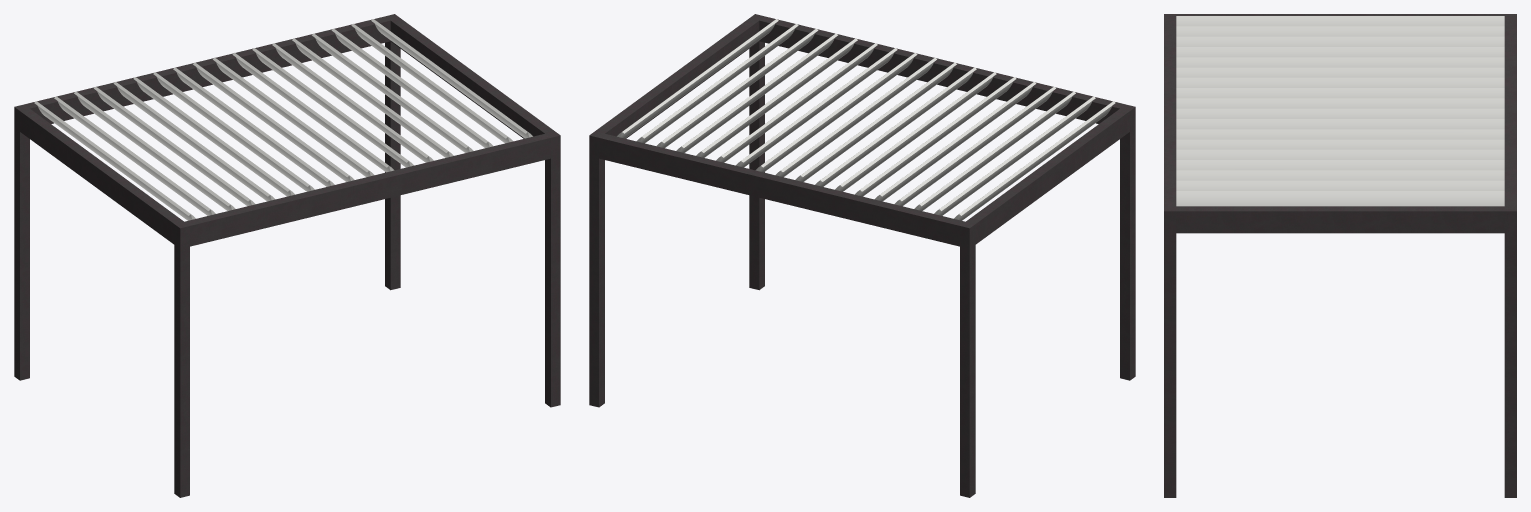
Rendered from psr_dokuritu-2k9s_kakicha.fbx.
The picture shows the model from 3 angles, left to right: view 1: azimuth 30°, elevation 25°; view 2: azimuth 150°, elevation 25°; view 3: azimuth 270°, elevation 25°; orthographic projection. The views are drawn at different scales.
Visible parts, largest first — view 1: psr_dokuritu-2k9s_kakicha; view 2: psr_dokuritu-2k9s_kakicha; view 3: psr_dokuritu-2k9s_kakicha.
Boxes of the visible parts, left/top/right/bottom form: psr_dokuritu-2k9s_kakicha: left=14, top=14, right=560, bottom=497; psr_dokuritu-2k9s_kakicha: left=589, top=14, right=1135, bottom=497; psr_dokuritu-2k9s_kakicha: left=1164, top=14, right=1516, bottom=497.
Size of the model in its own units: 384 by 266 by 290.
Materials: 2 (1 with a texture image).
